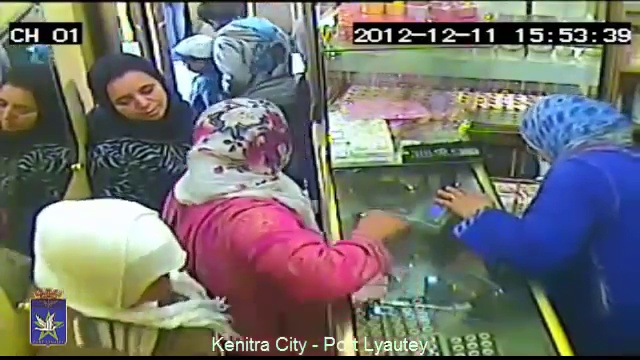face: (114, 72, 167, 124), (0, 89, 42, 136)
